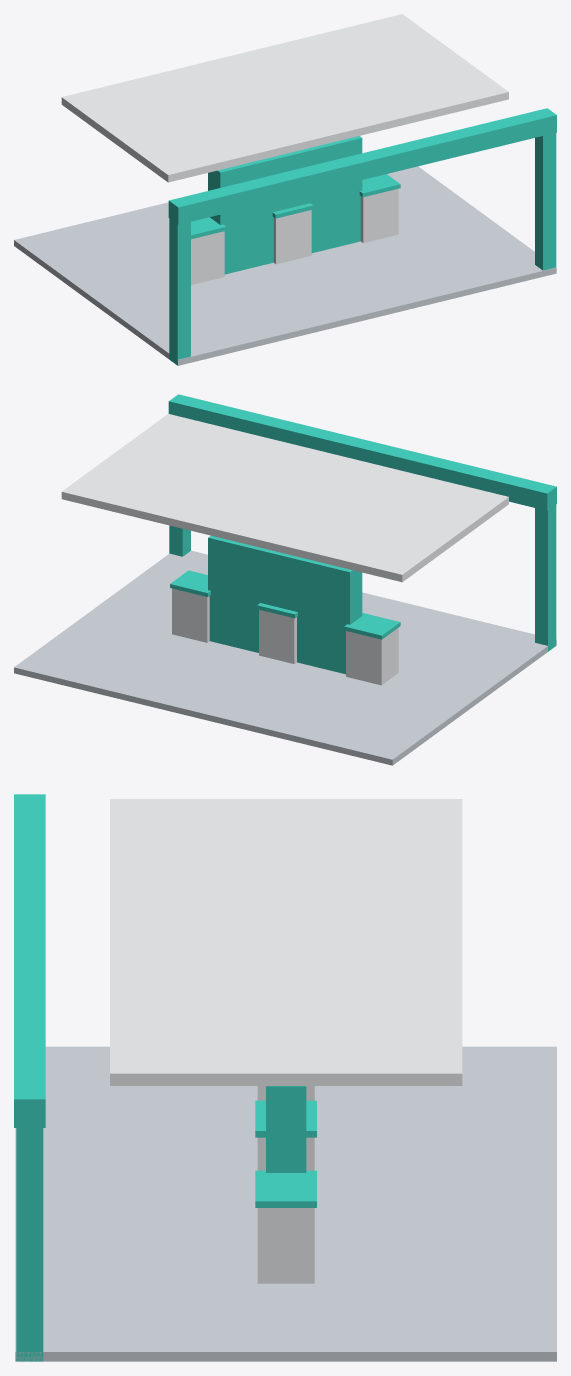
3 renders of one model, top to bottom at view 1: azimuth 30°, elevation 25°; view 2: azimuth 150°, elevation 25°; view 3: azimuth 270°, elevation 25°, orthographic. The views are drawn at different scales.
Visible parts, largest first — view 1: Exhibition Booth Concept; view 2: Exhibition Booth Concept; view 3: Exhibition Booth Concept.
Part boxes in pixels (box(x1,y1,x2,y2)): Exhibition Booth Concept: box(14, 14, 556, 365); Exhibition Booth Concept: box(14, 394, 556, 765); Exhibition Booth Concept: box(14, 794, 556, 1361).
Size of the model in its own units: 8 by 3.34 by 6.02.
